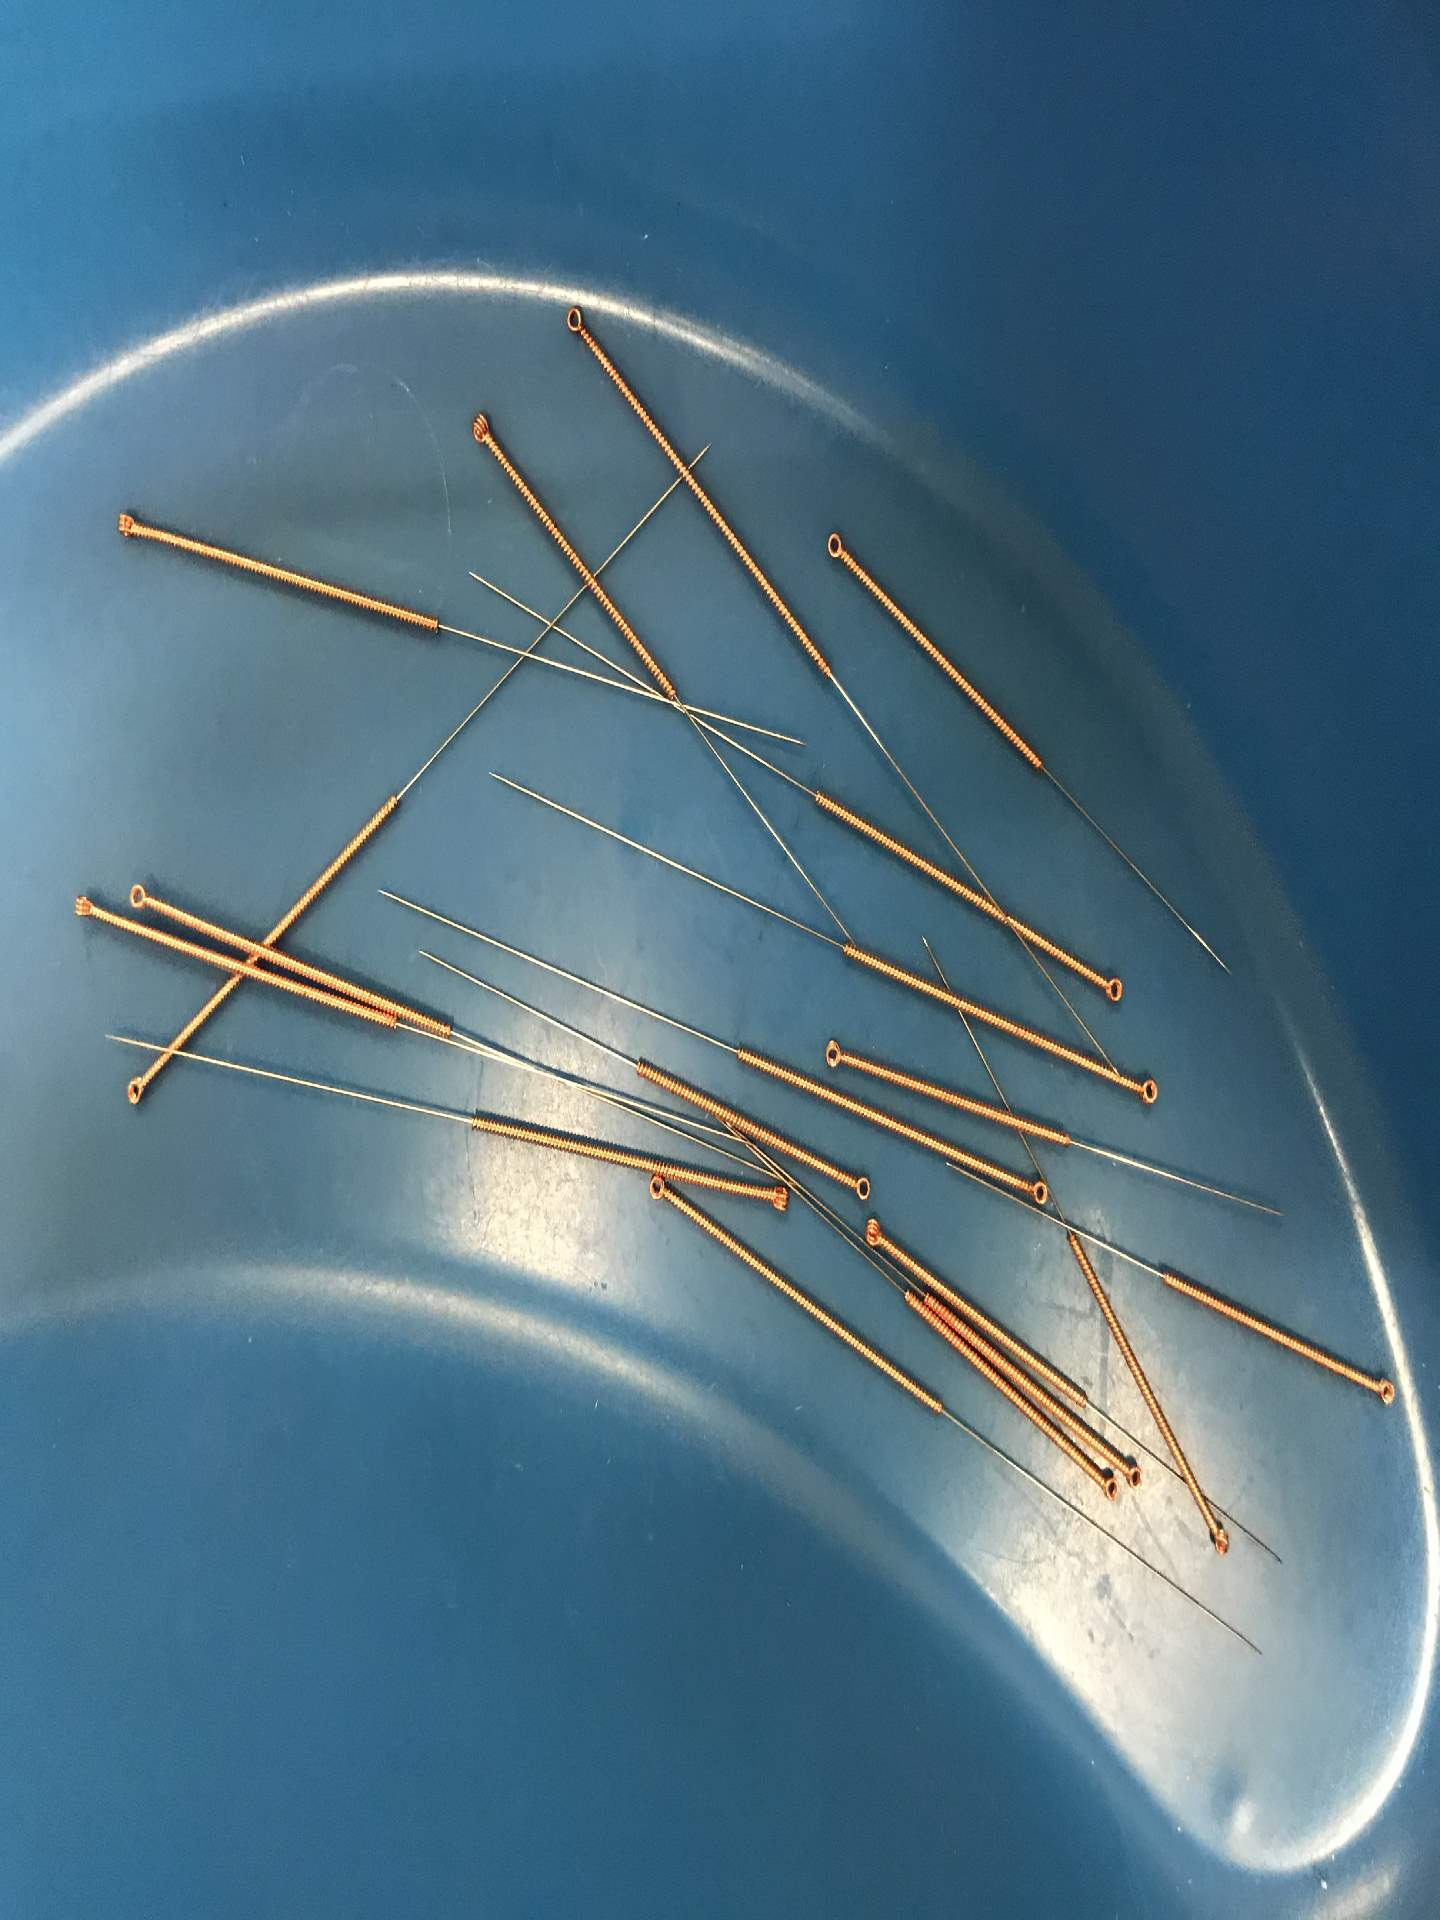needle: (101, 500, 145, 552), (555, 296, 594, 348), (116, 1067, 156, 1116), (463, 404, 501, 454), (119, 875, 160, 919), (1094, 965, 1131, 1011), (1128, 1069, 1168, 1113), (64, 884, 103, 928), (815, 523, 853, 568), (758, 1178, 799, 1219), (814, 1033, 850, 1078), (1201, 1519, 1237, 1565), (1367, 1364, 1401, 1412), (855, 1209, 891, 1253), (1019, 1170, 1054, 1212), (843, 1166, 877, 1208), (638, 1172, 675, 1209), (1091, 1473, 1125, 1507), (1121, 1457, 1148, 1497)
